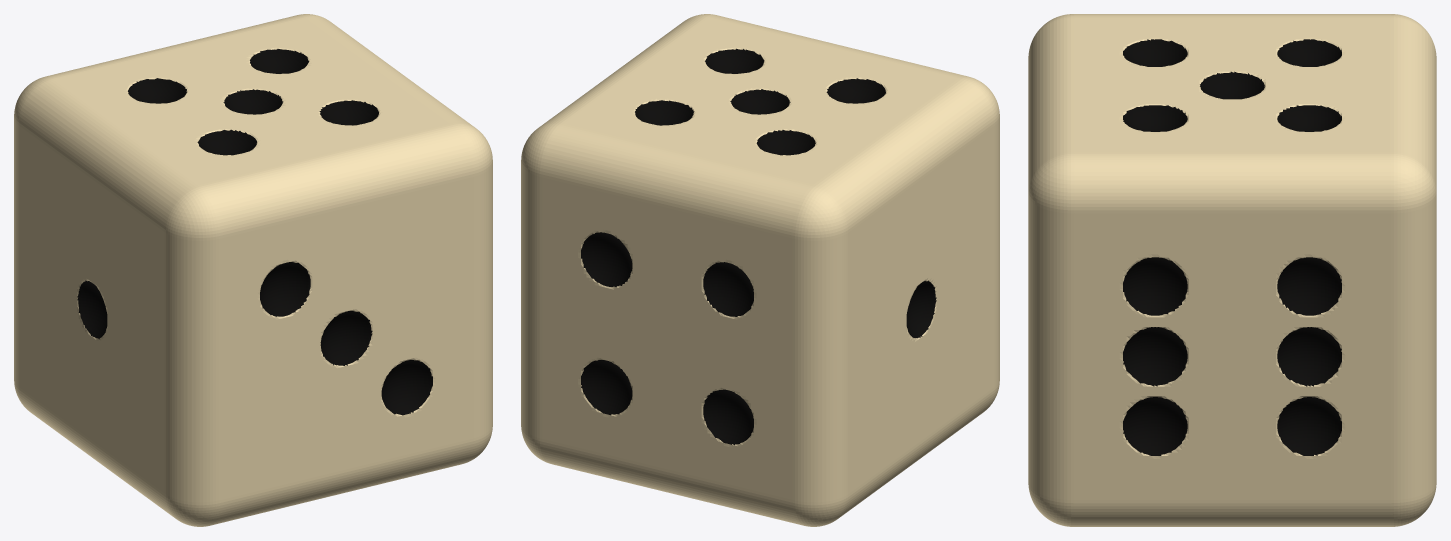
Rendered from TrueD6.obj.
The picture shows the model from 3 angles, left to right: view 1: azimuth 30°, elevation 25°; view 2: azimuth 150°, elevation 25°; view 3: azimuth 270°, elevation 25°; orthographic projection. The views are drawn at different scales.
Visible parts, largest first — view 1: IvoryBody, GlossBlackPips; view 2: IvoryBody, GlossBlackPips; view 3: IvoryBody, GlossBlackPips.
Boxes of the visible parts, <box> form: IvoryBody: <box>14,14,492,526</box>; GlossBlackPips: <box>77,49,432,415</box>; IvoryBody: <box>521,14,999,526</box>; GlossBlackPips: <box>581,48,936,445</box>; IvoryBody: <box>1028,14,1436,526</box>; GlossBlackPips: <box>1123,39,1341,455</box>.
Bounding box in the file's own units: 1.64 × 1.64 × 1.64.
